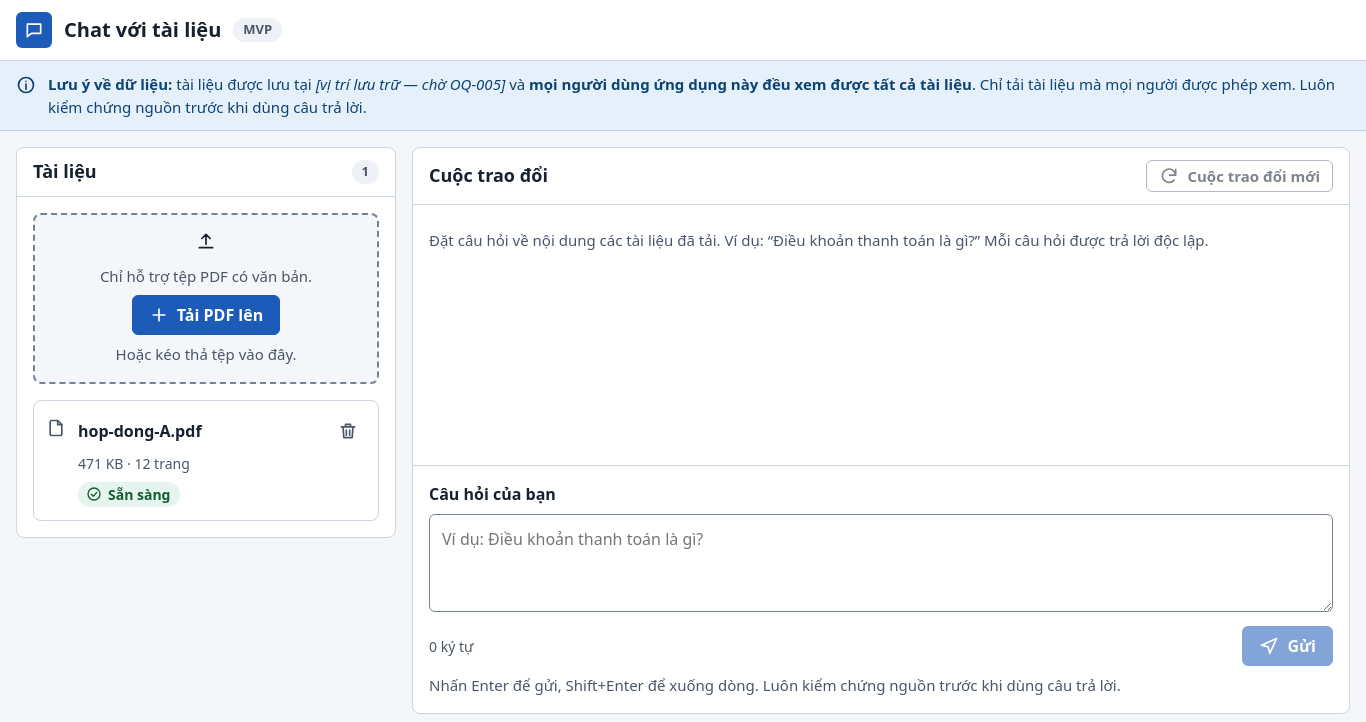
Scenario: [US-010-AC1][US-010-AC2] không tìm thấy và trả lời một phần có kiểu hiển thị riêng
Type "Giá cổ phiếu?" into the text box labelled "Câu hỏi của bạn". click: (881, 563)
box: x1=429 y1=514 x2=1333 y2=612
Then press Enter
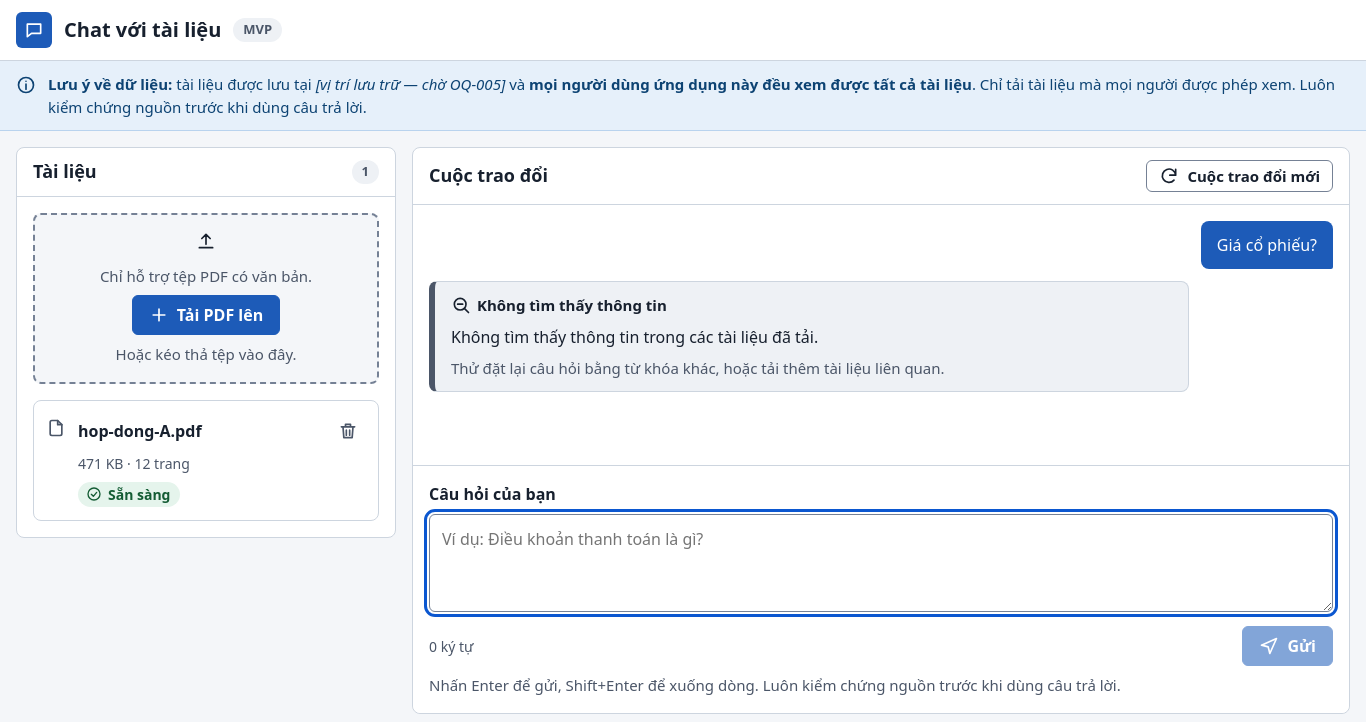
Check: the text "Không tìm thấy thông tin" is shown, box x1=451 y1=295 x2=667 y2=315
Type "Phạt và bảo hành?" into the text box labelled "Câu hỏi của bạn". click: (881, 563)
box: x1=429 y1=514 x2=1333 y2=612
Then press Enter
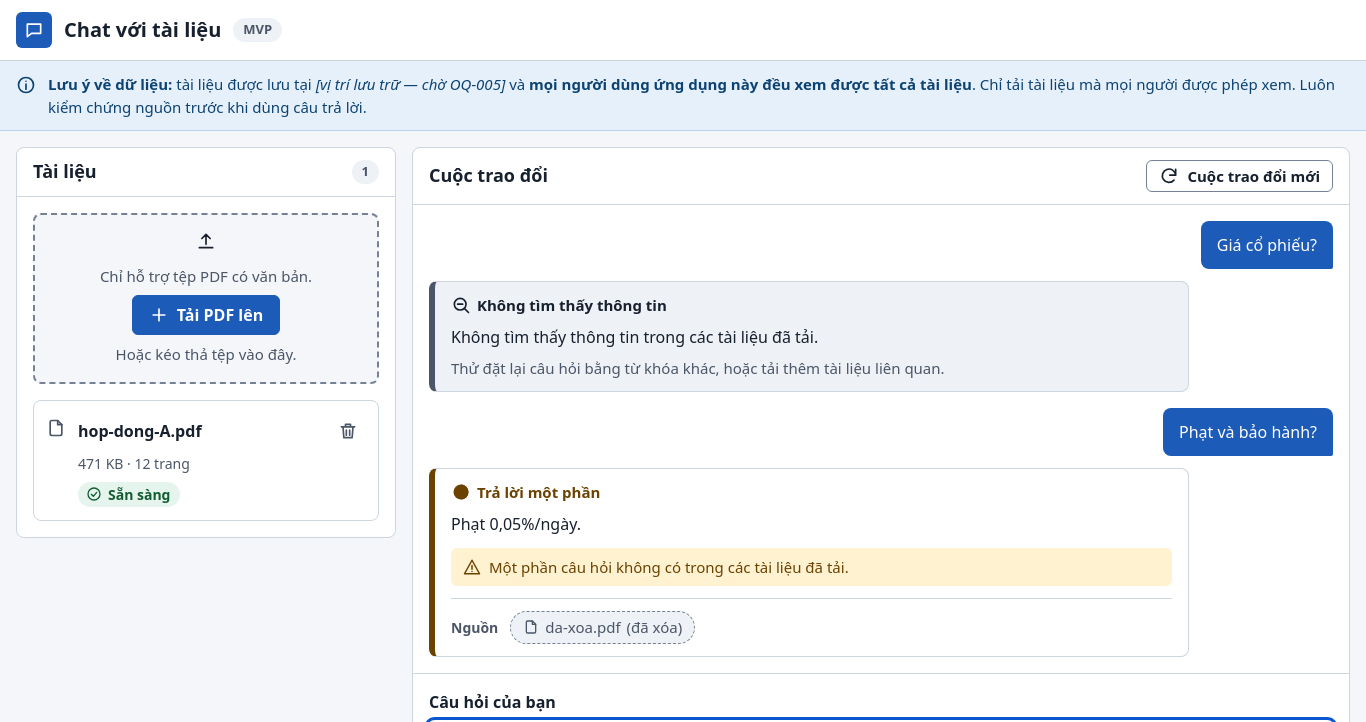
Check: the text "Trả lời một phần" is shown, box x1=451 y1=482 x2=600 y2=502
Check: the text "(đã xóa)" is shown, box x1=626 y1=616 x2=682 y2=638
